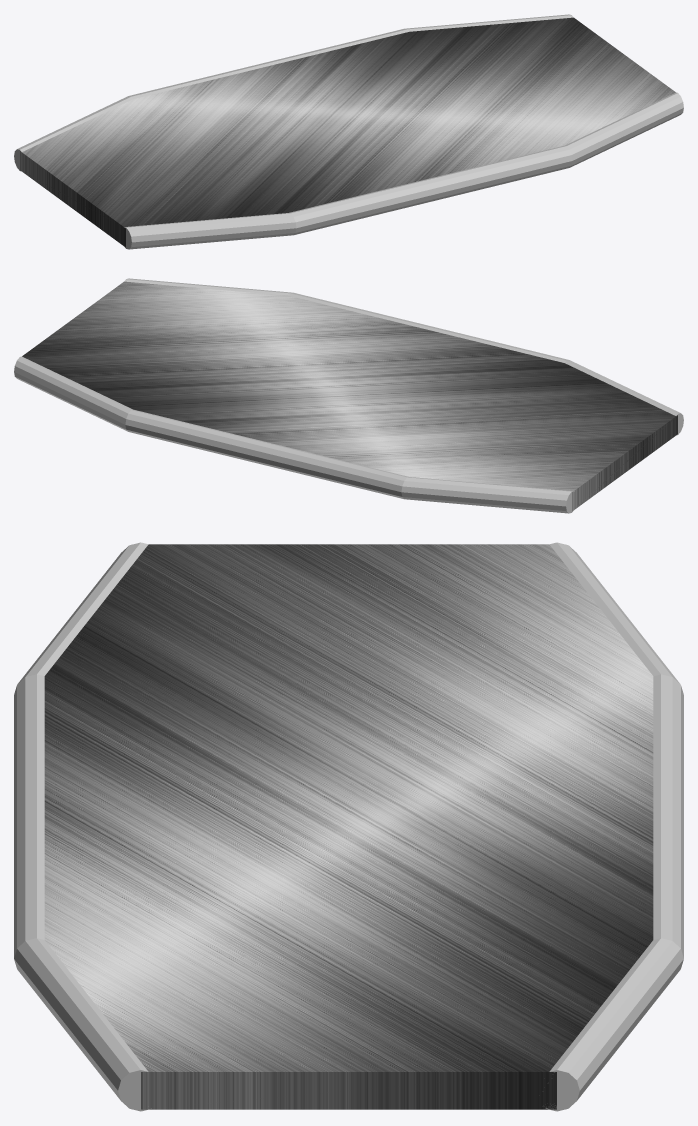
3 views of the same model, one above another, from view 1: azimuth 30°, elevation 25°; view 2: azimuth 150°, elevation 25°; view 3: azimuth 270°, elevation 25° (orthographic). The views are drawn at different scales.
Parts seen in each view (by area): view 1: SPlatform; view 2: SPlatform; view 3: SPlatform.
Part boxes in pixels (bbox=[...]): SPlatform: bbox=[14, 14, 683, 249]; SPlatform: bbox=[14, 278, 683, 513]; SPlatform: bbox=[14, 542, 683, 1111].
Bounding box in the file's own units: 1200 × 44 × 644.
